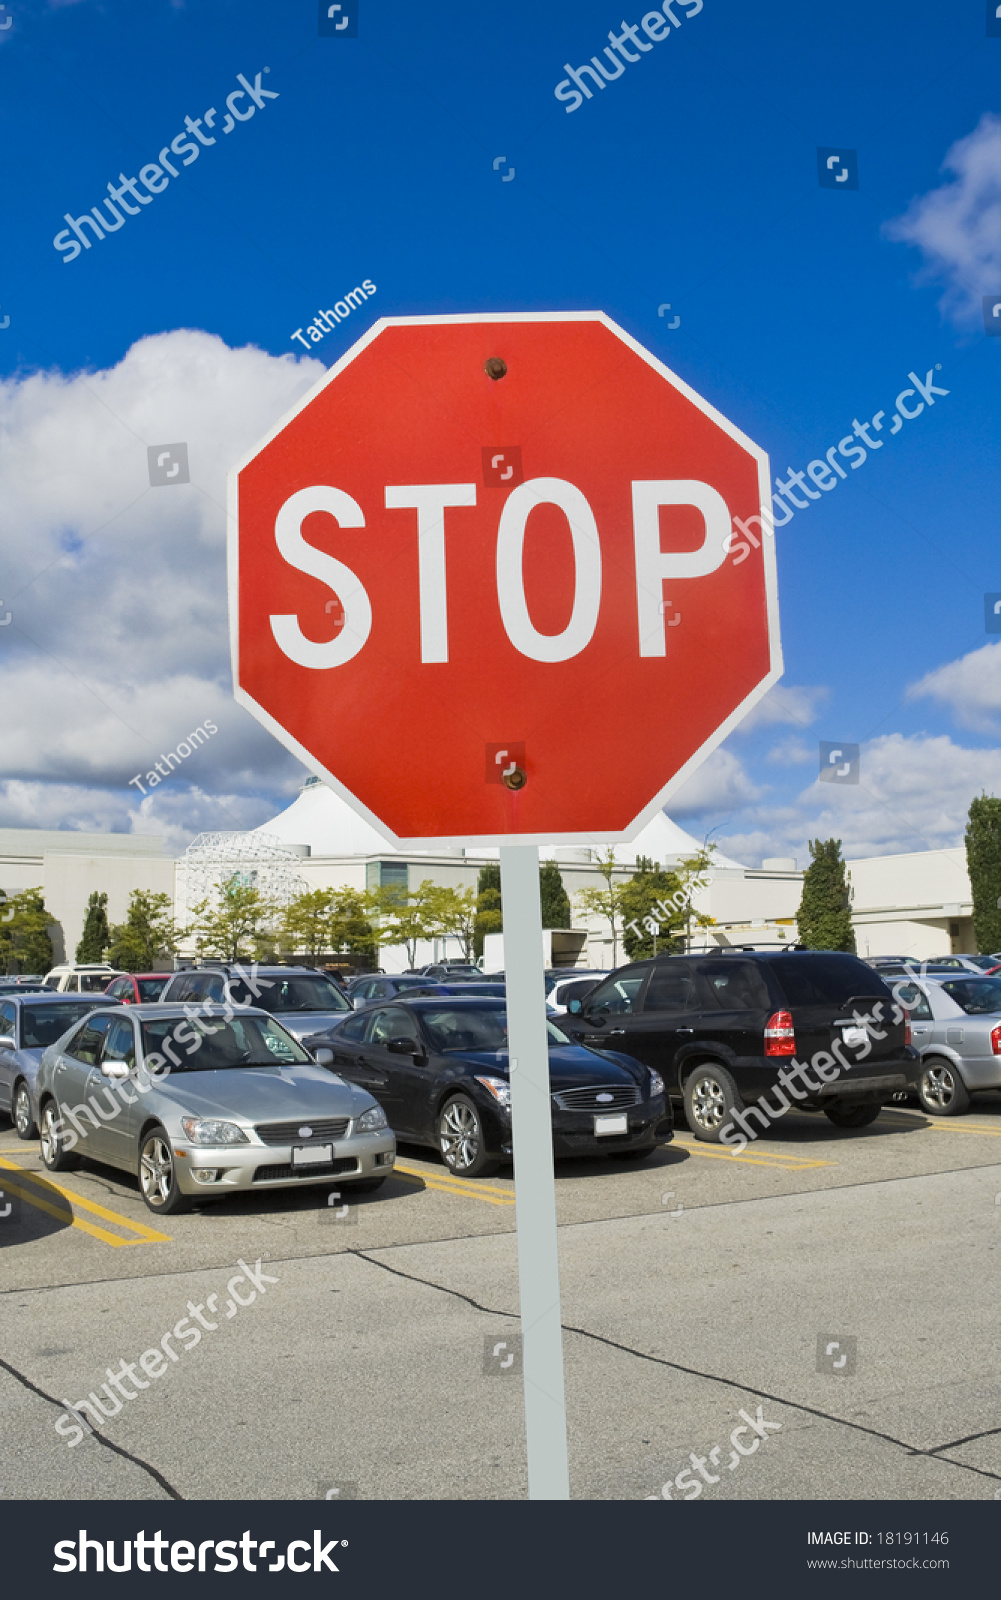stopsign: (229, 309, 781, 846)
